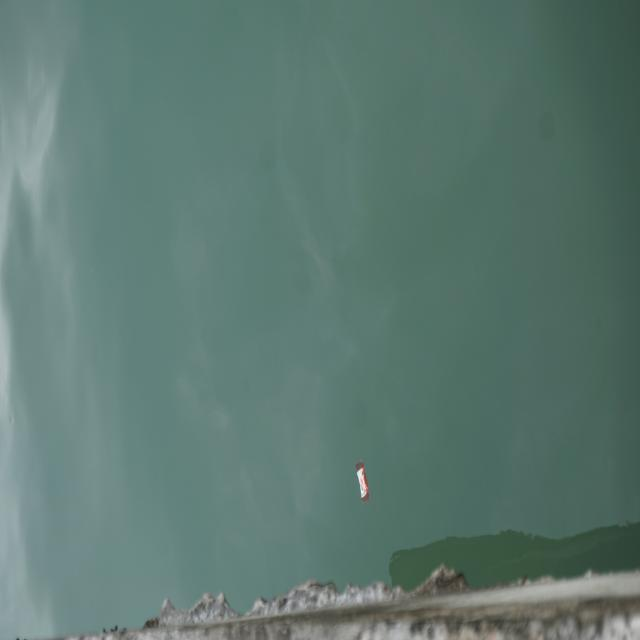Bungkus Makanan: (355, 460, 374, 506)
